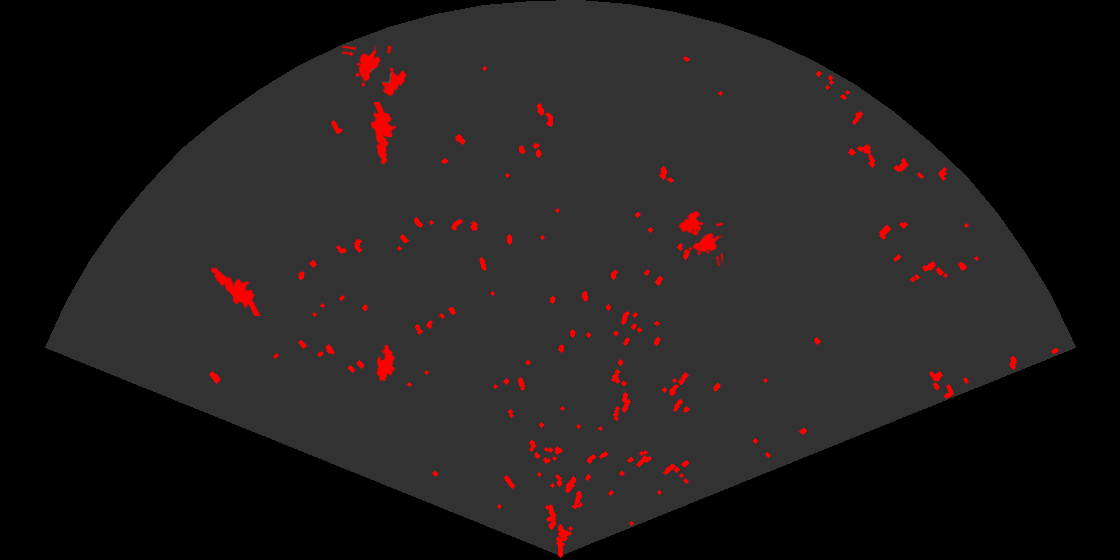AUV: (375, 343, 395, 383)
cage: (342, 46, 409, 98), (677, 209, 723, 266)
frogman: (209, 265, 262, 316), (369, 102, 398, 166)
